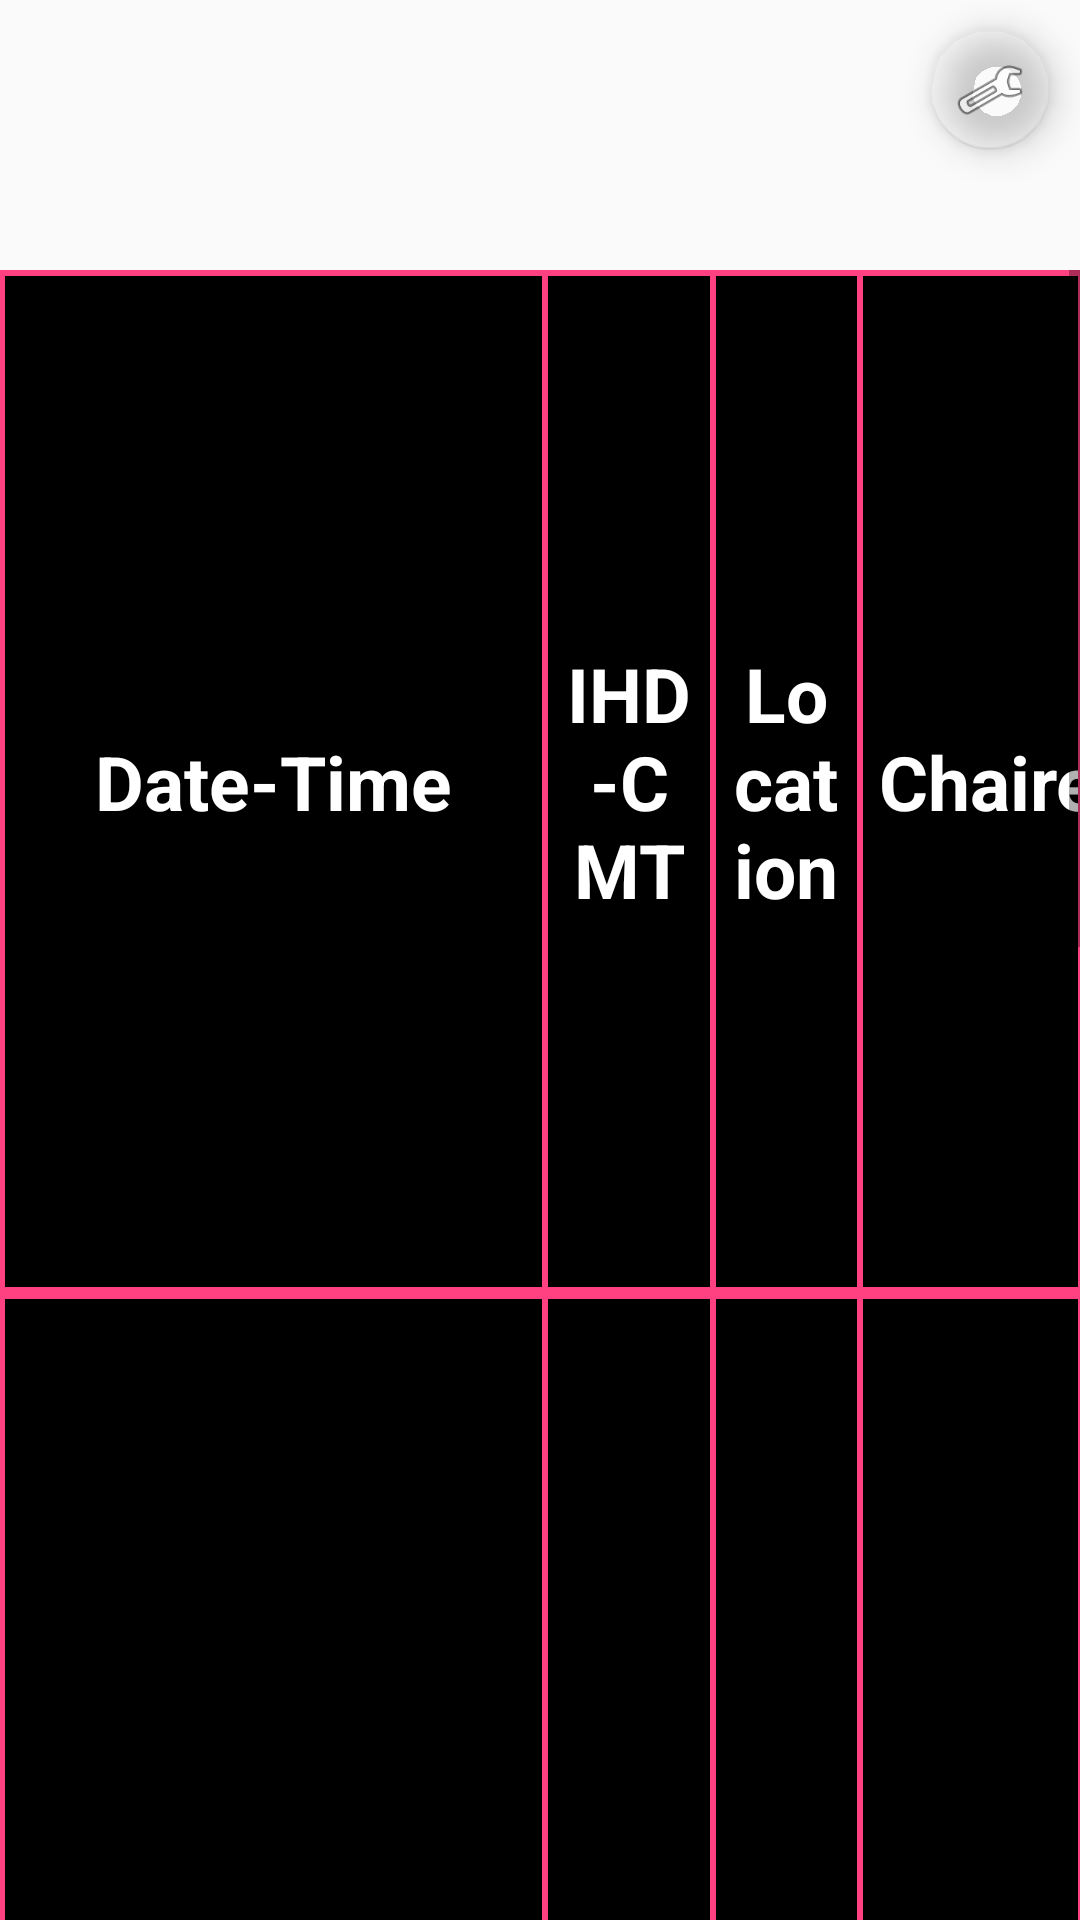

Icon click points for this 1080w x 1920h phone screenshot, format (x,y):
manage: (996,97)
